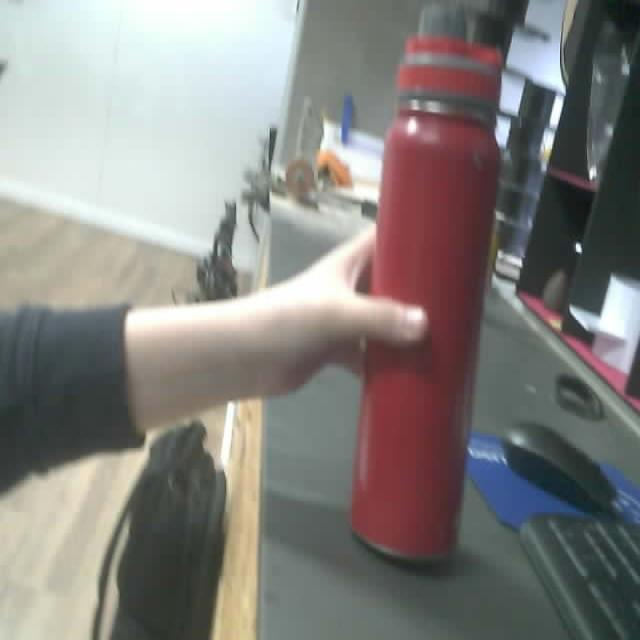water bottle: (350, 32, 505, 563)
